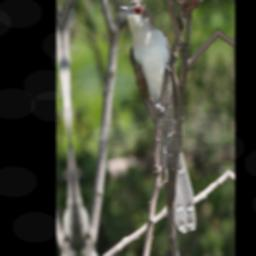Cuckoo: (114, 0, 200, 240)
